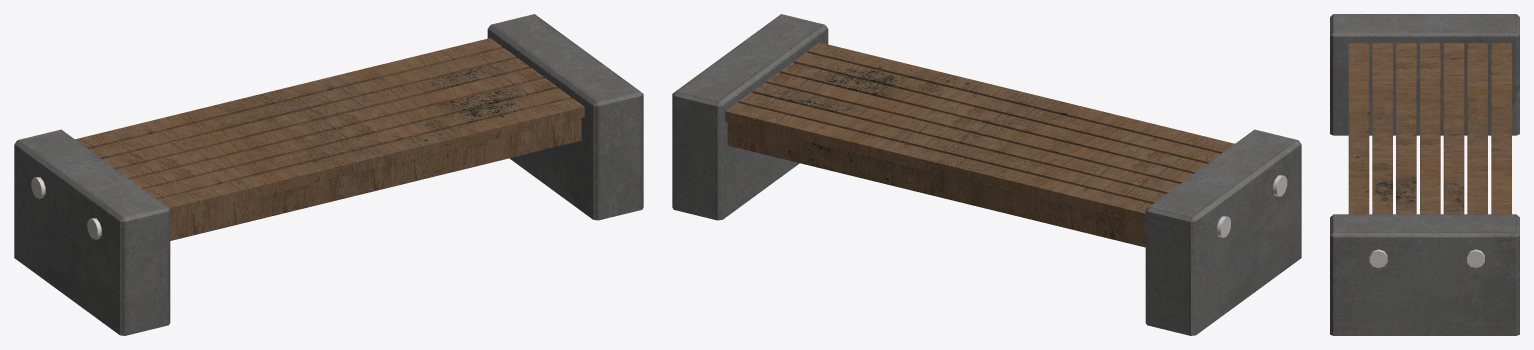
The model's file is prp_bench.FBX.
3 views of the same model, side by side, from view 1: azimuth 30°, elevation 25°; view 2: azimuth 150°, elevation 25°; view 3: azimuth 270°, elevation 25° (orthographic). The views are drawn at different scales.
Parts seen in each view (by area): view 1: prp_bench; view 2: prp_bench; view 3: prp_bench.
Part boxes in pixels (bbox=[...]): prp_bench: bbox=[14, 14, 643, 335]; prp_bench: bbox=[672, 14, 1301, 335]; prp_bench: bbox=[1330, 14, 1519, 335].
Size of what is drawn, in the model's own units: 281 by 100 by 59.16.
